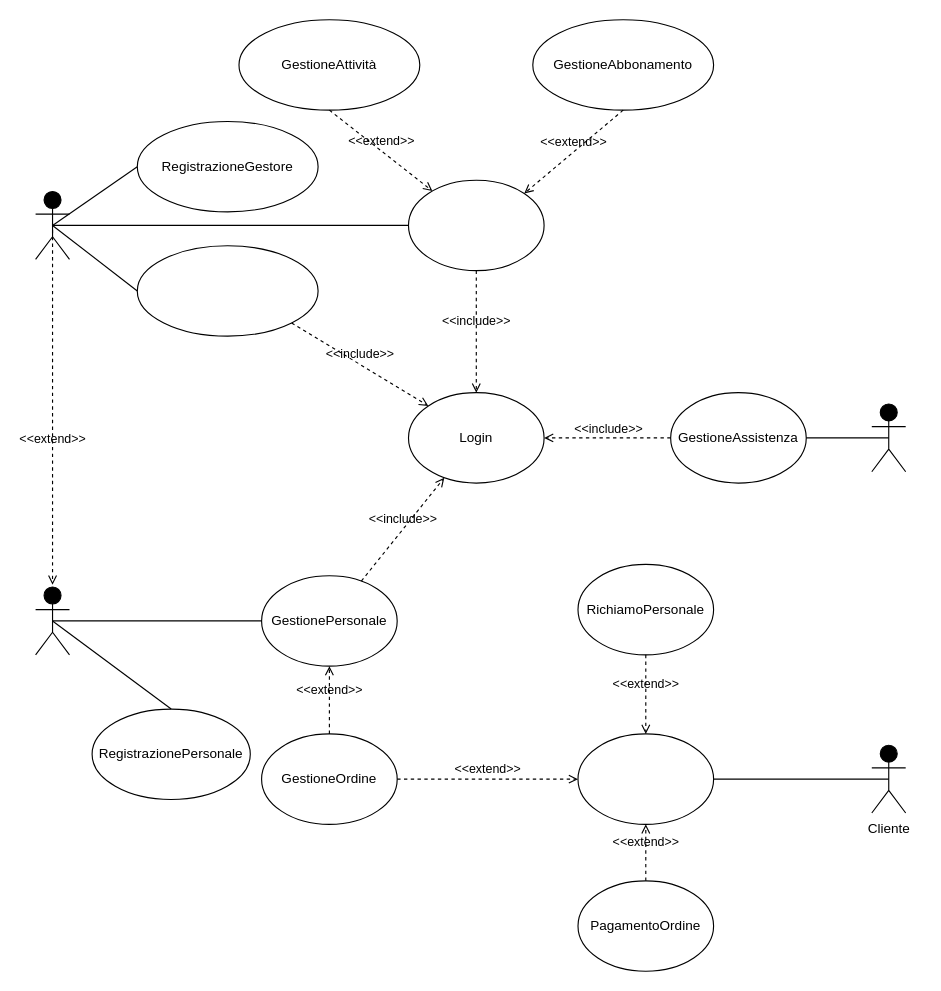
Some shapes in this 941 by 991 pixel diagram are drawn without their labels. Each missing label, with the centre of its shape:
"Assistenza" belongs at pixel 888 437.
"GestioneCliente" belongs at pixel 645 778.
"GestioneGestore" belongs at pixel 475 225.
"Gestore" belongs at pixel 51 224.
"Personale" belongs at pixel 51 620.
"RegistrazioneAttività" belongs at pixel 227 290.
